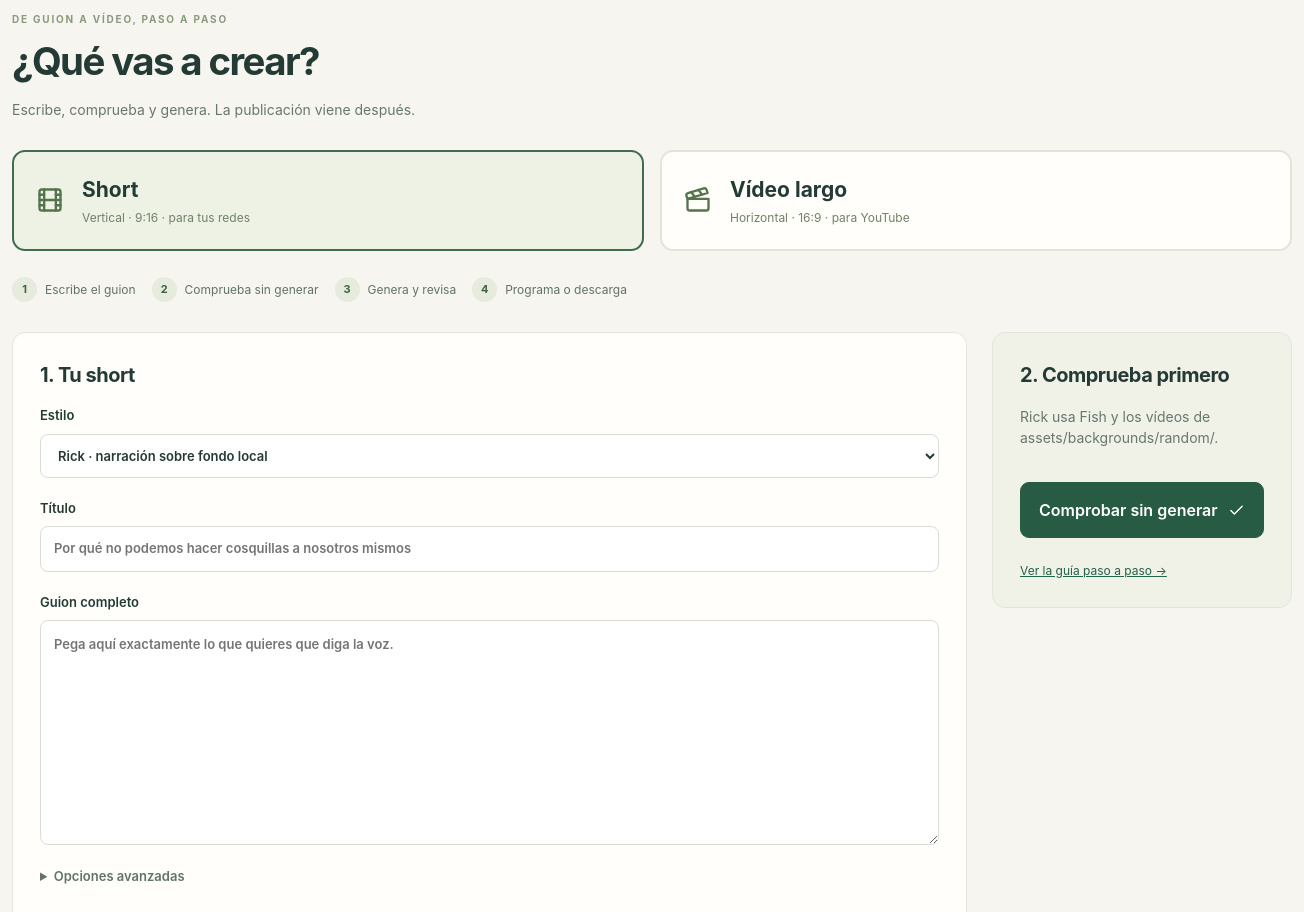
it: guided studio › discards a delayed preview if the user edits its input meanwhile
Type "Mi short" into the field labelled "Título" at (490, 549), box [40,526,939,572]
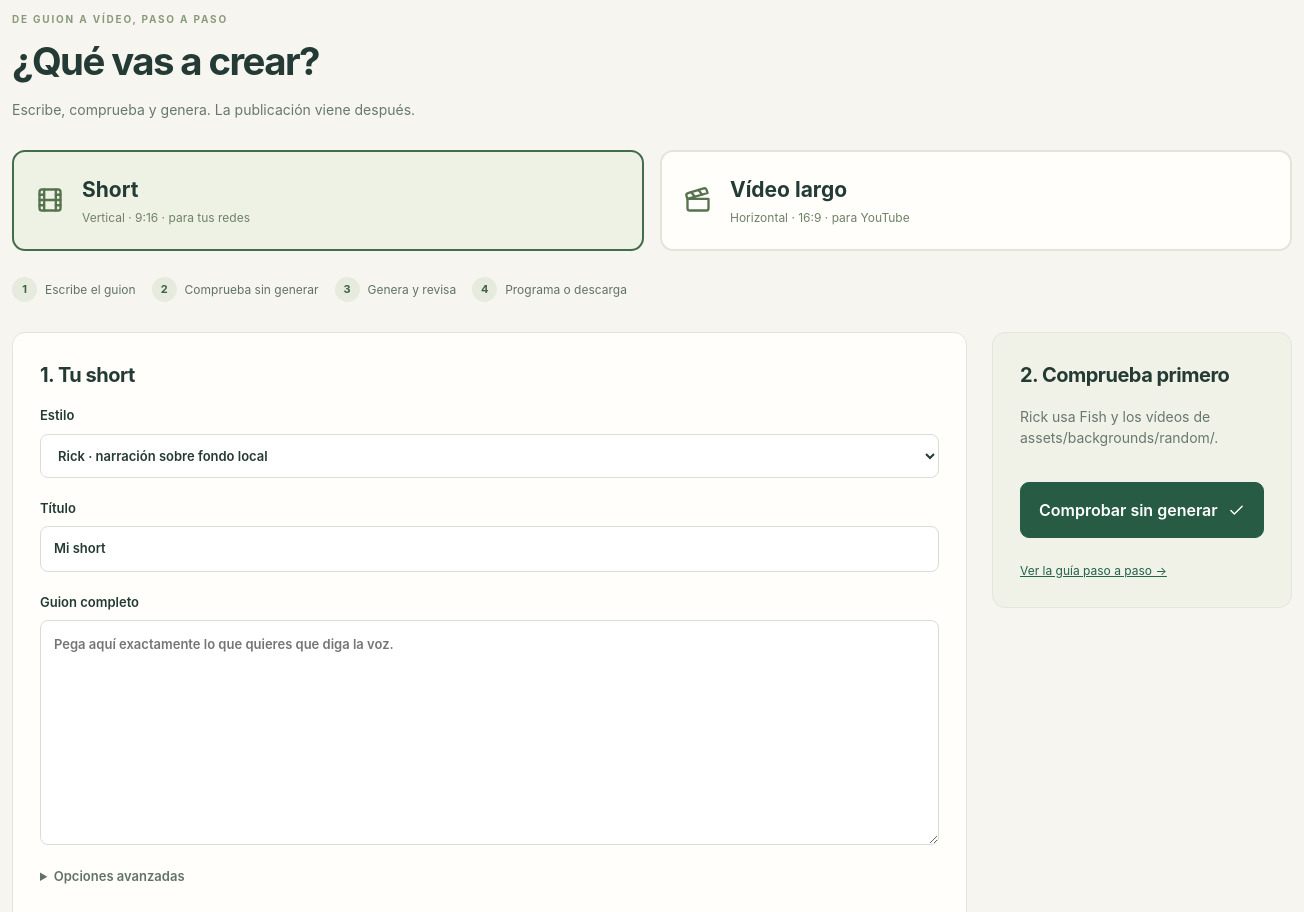
Type "Una narración suficientemente larga para probar el vídeo." into the text box labelled "Guion completo" at (490, 732), box [40,620,939,845]
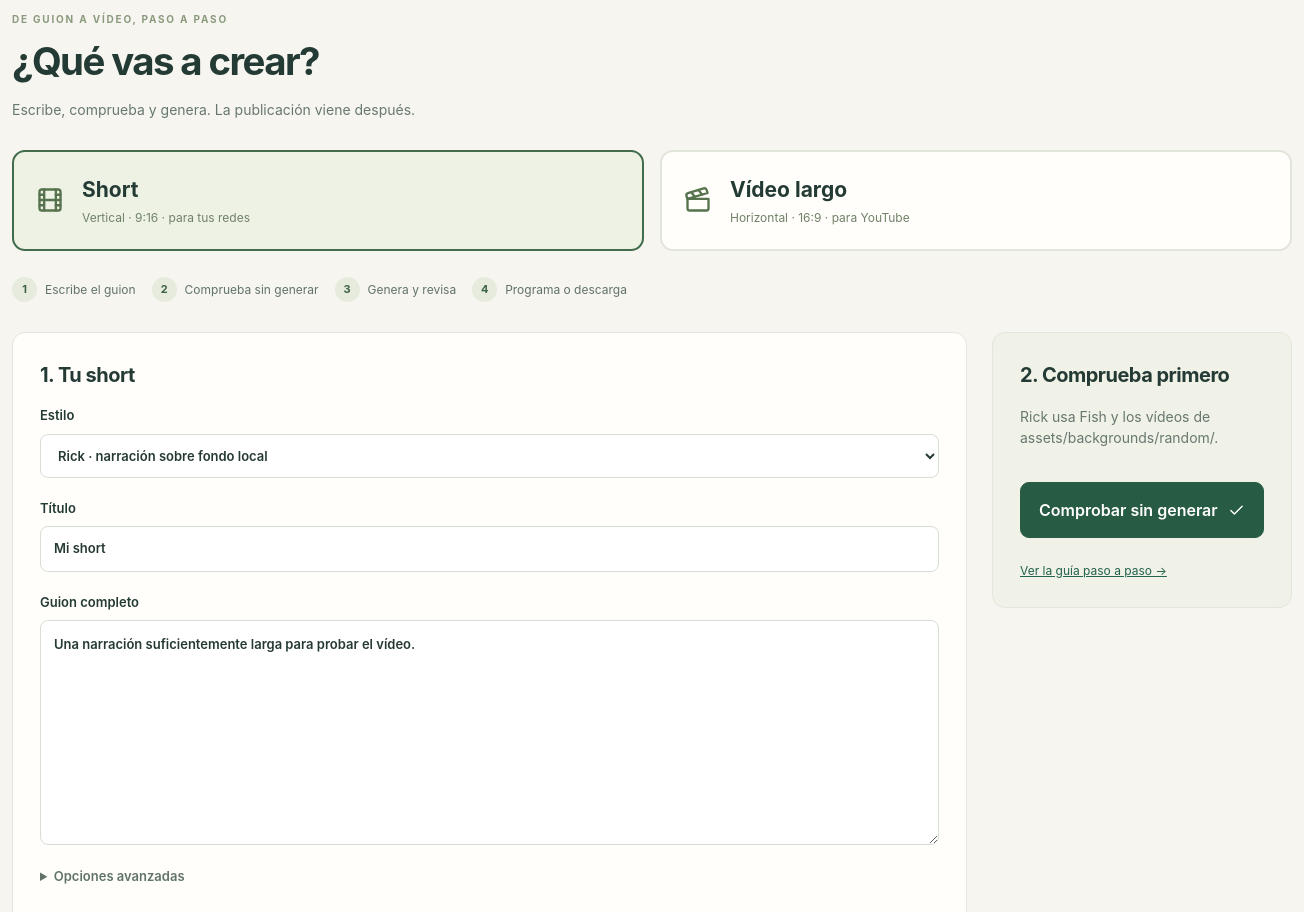
Click the button "Comprobar sin generar" at (1142, 510), box [1020,482,1264,538]
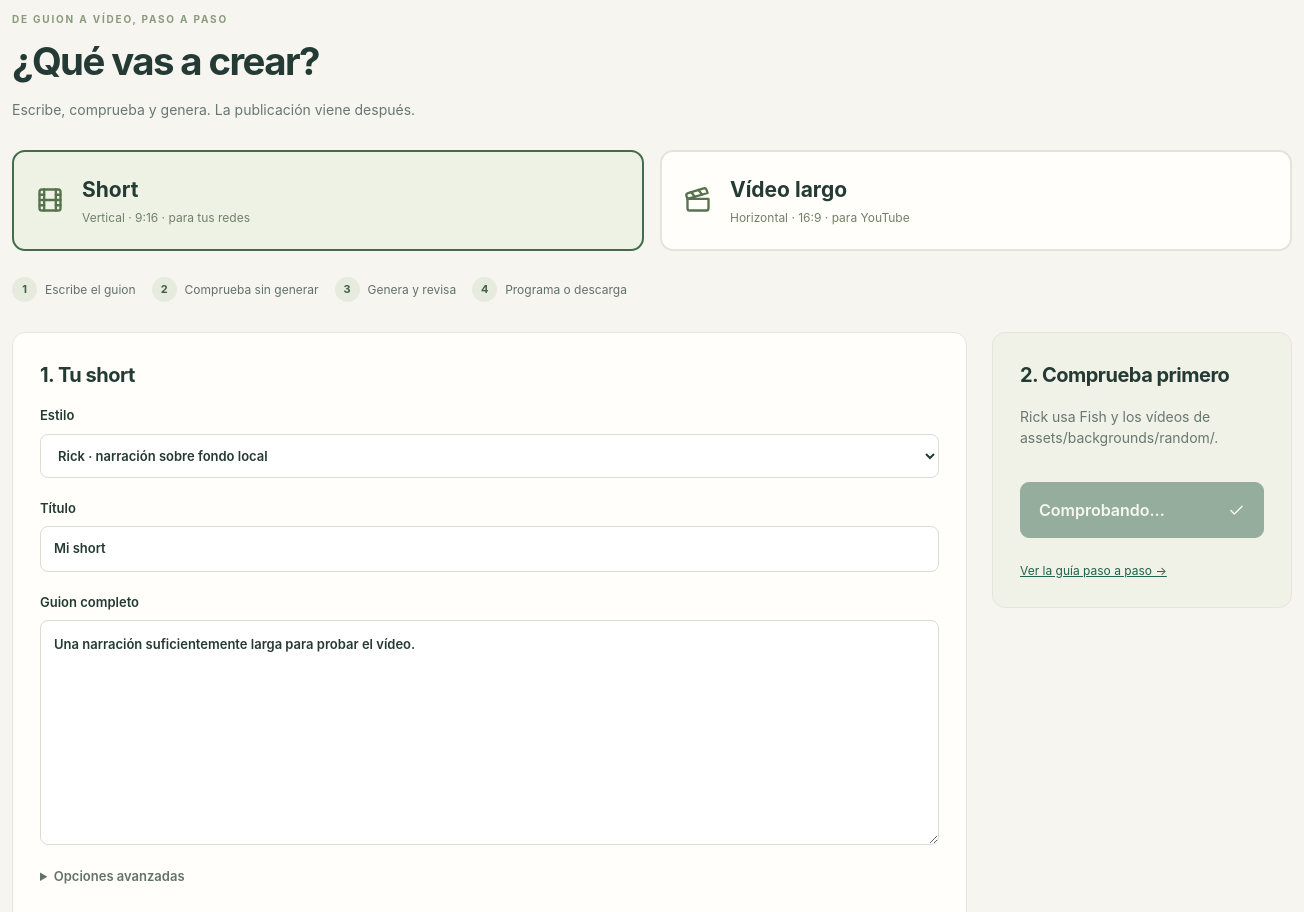
Replace the text in the text box labelled "Guion completo" with "Otro guion completo que necesita revisión." at (490, 732), box [40,620,939,845]
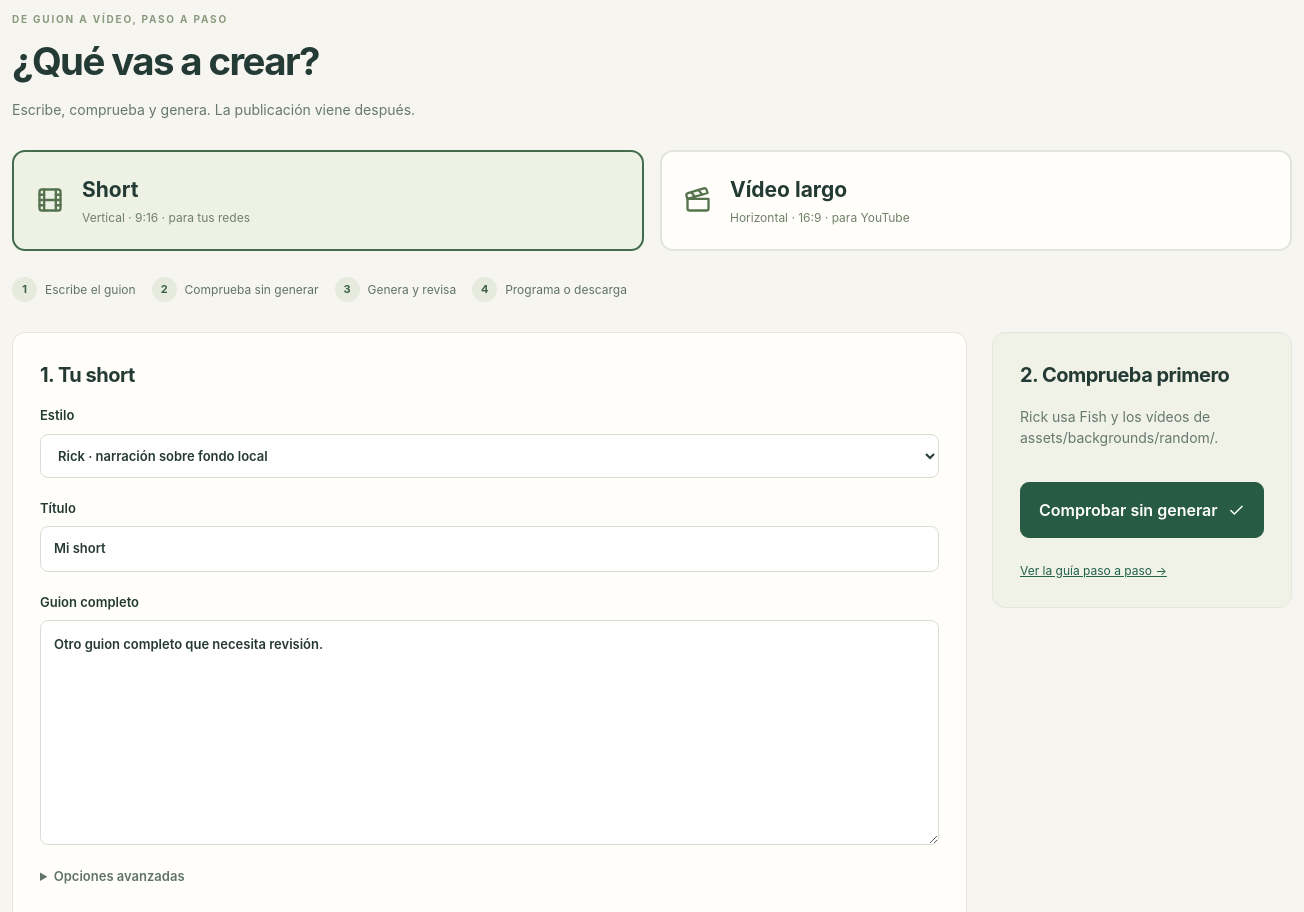
Expected: the button "Comprobar sin generar" is enabled, [1020,482,1264,538]
